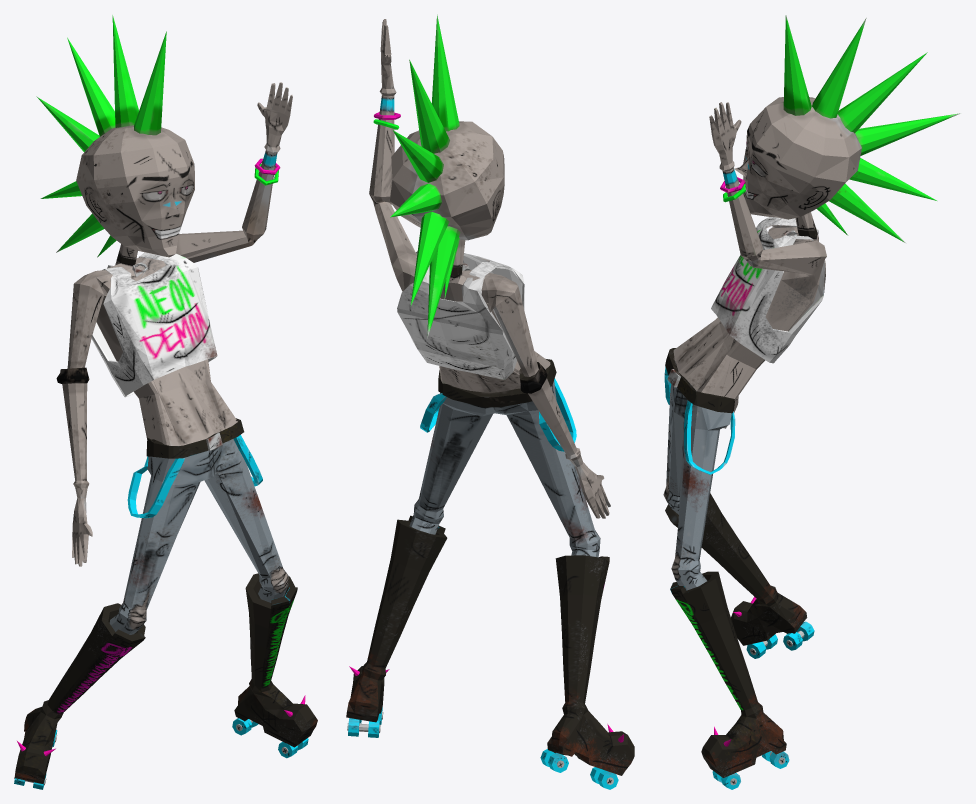
File: punkAnimation_000118.obj
3 renders of one model, left to right at view 1: azimuth 30°, elevation 25°; view 2: azimuth 150°, elevation 25°; view 3: azimuth 270°, elevation 25°, orthographic. The views are drawn at different scales.
Parts seen in each view (by area): view 1: Cube.004_Cube.003; view 2: Cube.004_Cube.003; view 3: Cube.004_Cube.003.
Part boxes in pixels (bbox=[...]): Cube.004_Cube.003: bbox=[14, 15, 317, 789]; Cube.004_Cube.003: bbox=[346, 14, 634, 789]; Cube.004_Cube.003: bbox=[663, 15, 960, 789].
Size of the model in its own units: 2.98 by 7.22 by 2.7.
